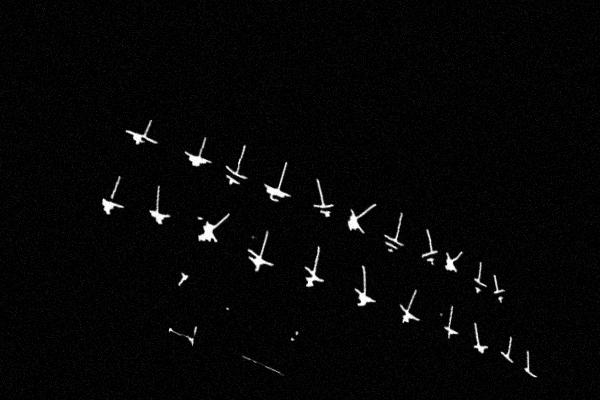ground: (239, 239, 280, 287), (256, 168, 297, 215), (120, 118, 163, 161), (177, 138, 217, 182), (216, 154, 253, 199), (294, 256, 329, 301), (346, 277, 381, 321), (376, 223, 409, 266), (98, 184, 130, 226), (191, 212, 223, 253), (142, 195, 175, 234), (391, 298, 424, 337), (340, 203, 371, 243), (307, 192, 339, 227), (415, 238, 441, 274), (465, 332, 492, 366), (437, 247, 463, 282), (438, 315, 463, 350), (493, 342, 520, 372), (467, 270, 490, 302), (518, 358, 542, 388), (489, 282, 509, 311)
